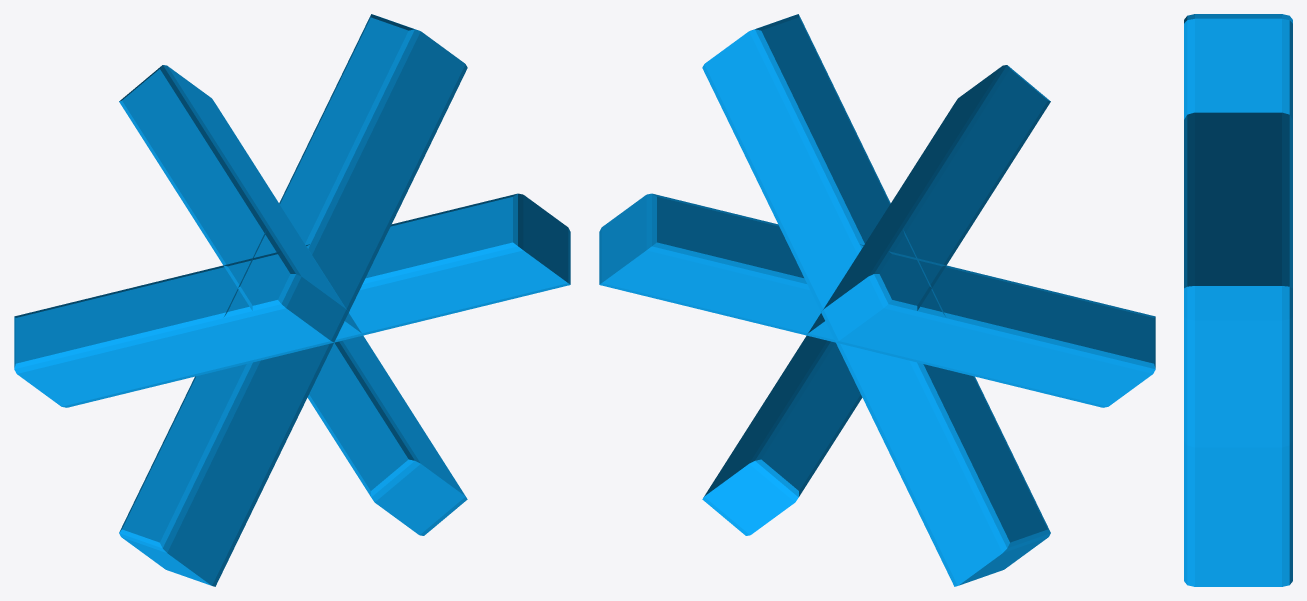
The model's file is glyph_self.glb.
3 renders of one model, left to right at view 1: azimuth 30°, elevation 25°; view 2: azimuth 150°, elevation 25°; view 3: azimuth 270°, elevation 25°, orthographic. The views are drawn at different scales.
Size of the model in its own units: 52.26 by 48.05 by 10.
